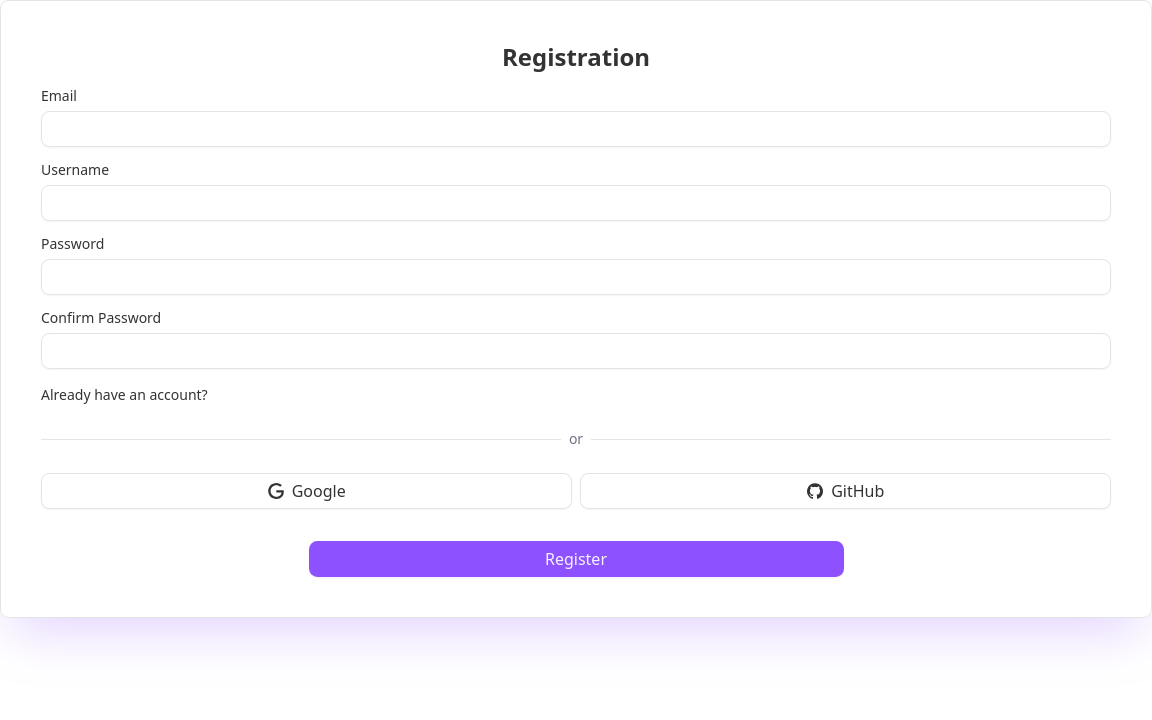
Test case: RegistrationForm component test › Form validation › Should show error if passwords don't match
Type "password123" into the password field with test id "password-field" at (576, 277), box [41,259,1111,295]
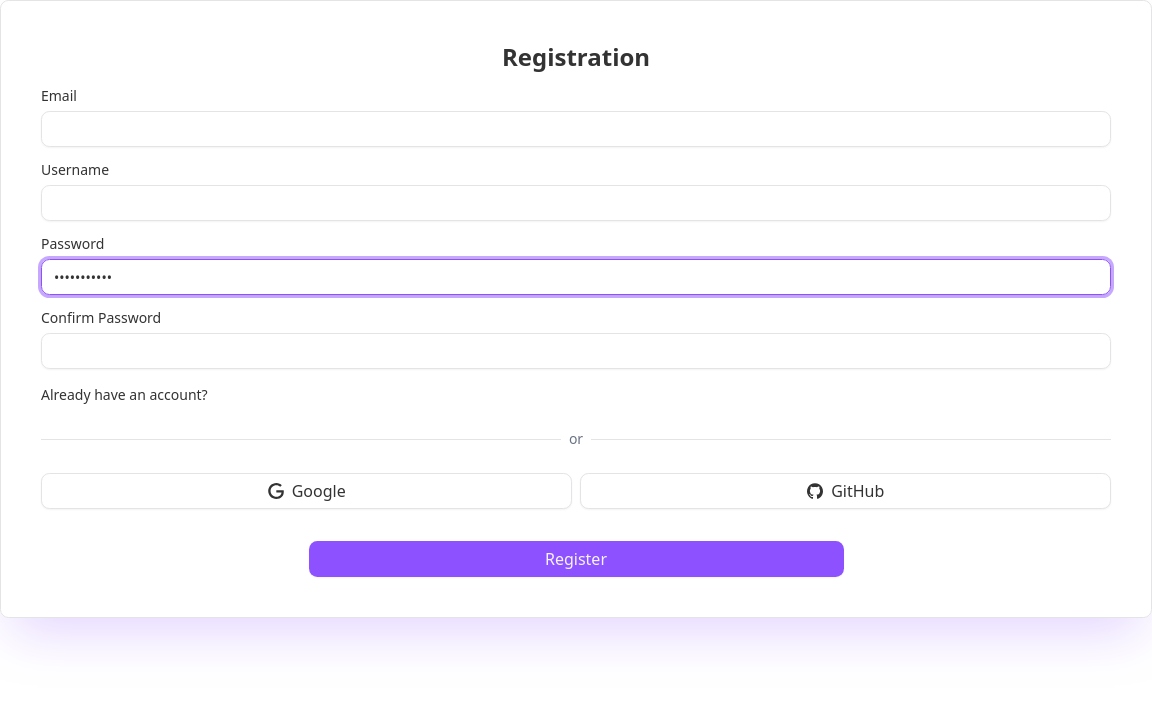
Type "password321" into the password field with test id "confirmPassword-field" at (576, 351), box [41,333,1111,369]
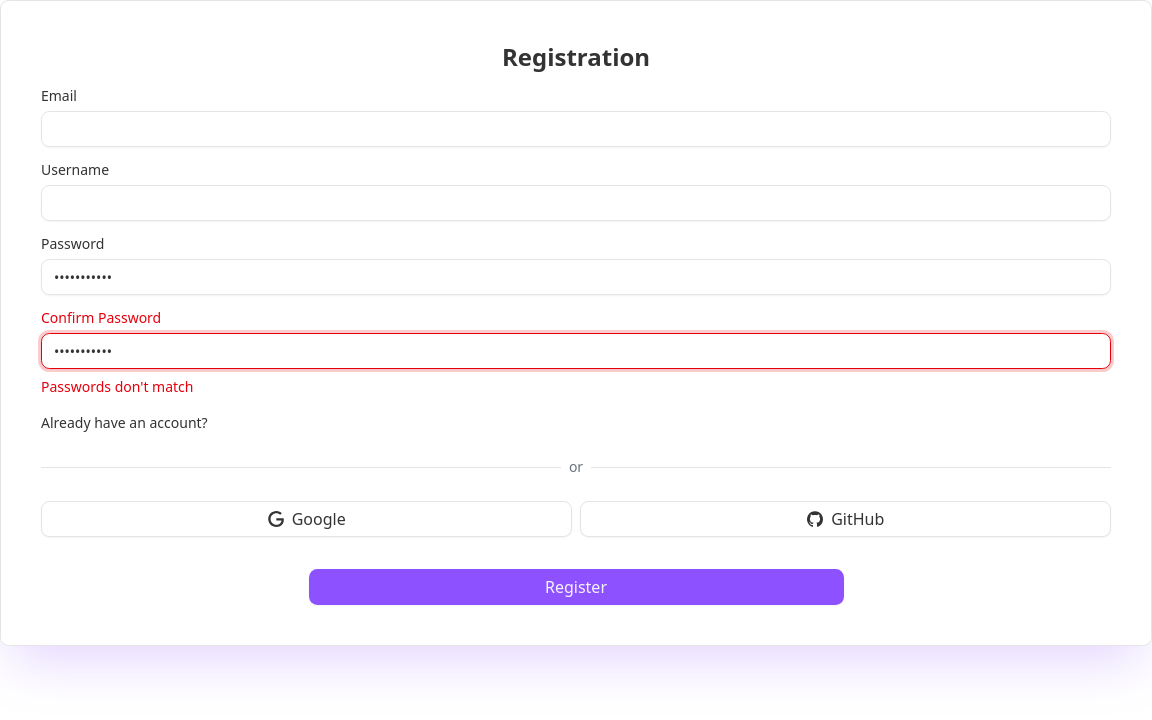
Expected: the text "Passwords don't match" is shown, [41,377,194,396]
